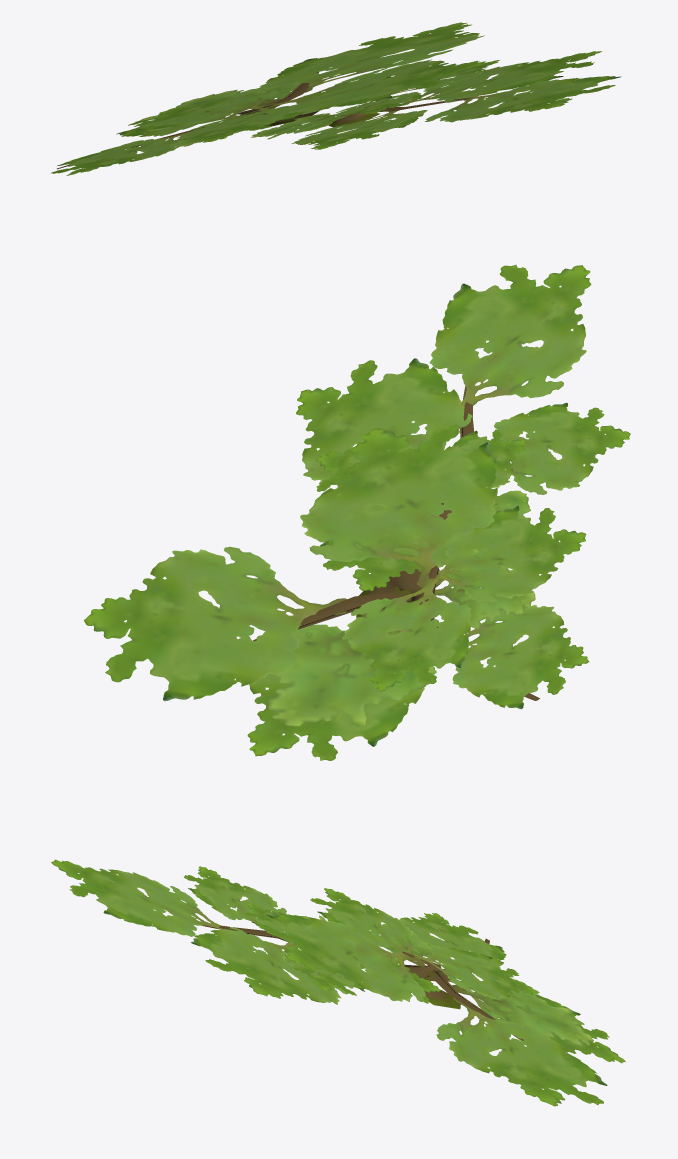
Rendered from liemo_plant_07 (7).fbx.
3 renders of one model, top to bottom at view 1: azimuth 30°, elevation 25°; view 2: azimuth 150°, elevation 25°; view 3: azimuth 270°, elevation 25°, orthographic. The views are drawn at different scales.
Parts seen in each view (by area): view 1: liemo_plant_07 (7); view 2: liemo_plant_07 (7); view 3: liemo_plant_07 (7).
Part boxes in pixels (bbox=[...]): liemo_plant_07 (7): bbox=[51, 22, 621, 175]; liemo_plant_07 (7): bbox=[84, 264, 630, 760]; liemo_plant_07 (7): bbox=[51, 859, 625, 1106].
Bounding box in the file's own units: 3.49 × 1.86 × 4.61.
